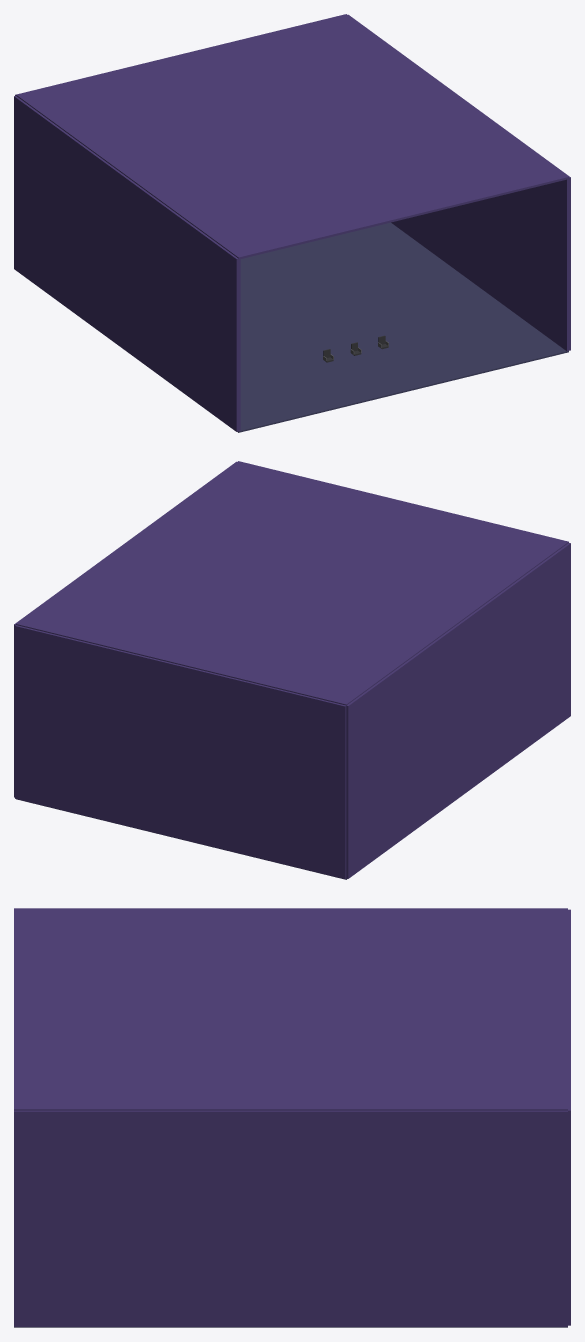
The model's file is skin-gameshow-grid-v1-decorated-world.glb.
The picture shows the model from 3 angles, top to bottom: view 1: azimuth 30°, elevation 25°; view 2: azimuth 150°, elevation 25°; view 3: azimuth 270°, elevation 25°; orthographic projection. The views are drawn at different scales.
Visible parts, largest first — view 1: Ceiling, Floor, Wall_L, Wall_R; view 2: Ceiling, Wall_Back, Wall_L, Wall_R; view 3: Wall_R, Ceiling, Wall_Back, Floor.
Boxes of the visible parts, box(x1,y1,x2,y2) form: Ceiling: box(16, 14, 568, 259); Floor: box(237, 222, 568, 432); Wall_L: box(14, 96, 240, 431); Wall_R: box(348, 14, 570, 351); Ceiling: box(16, 461, 568, 705); Wall_Back: box(15, 625, 346, 879); Wall_L: box(346, 543, 570, 878); Wall_R: box(14, 461, 236, 797); Wall_R: box(14, 1110, 567, 1326); Ceiling: box(14, 908, 567, 1110); Wall_Back: box(568, 909, 570, 1325); Floor: box(14, 1327, 567, 1327).
Bounding box in the file's own units: 24.3 × 12.18 × 28.15.
